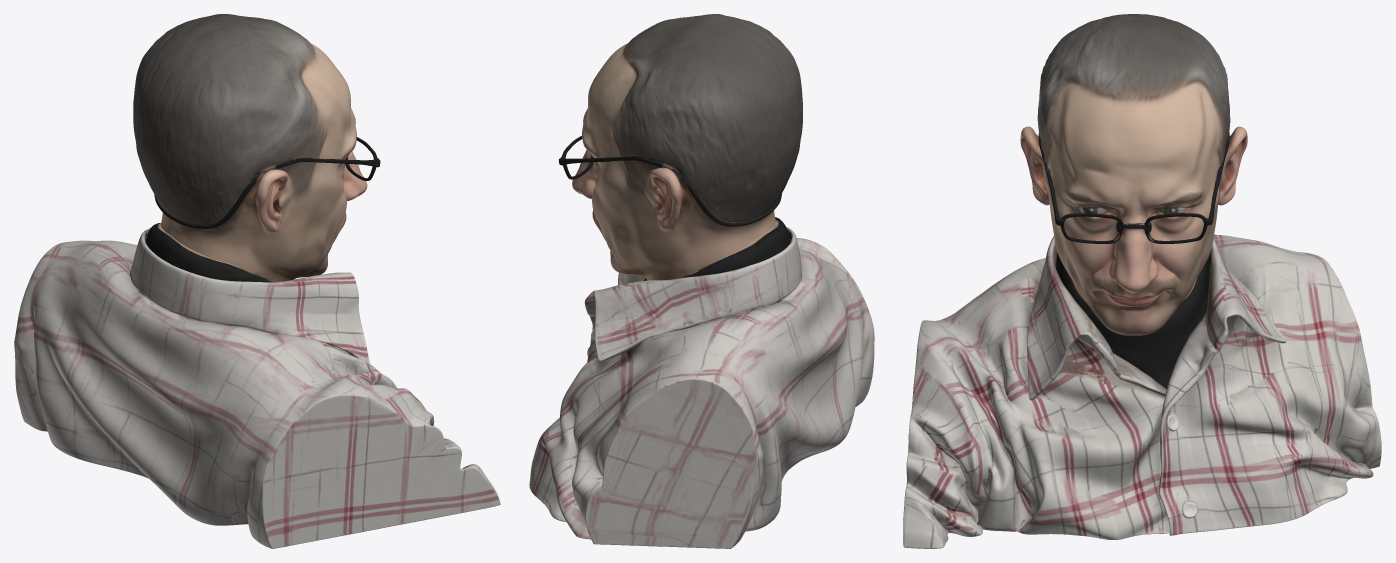
File: galactus.glb
3 renders of one model, left to right at view 1: azimuth 30°, elevation 25°; view 2: azimuth 150°, elevation 25°; view 3: azimuth 270°, elevation 25°, orthographic. The views are drawn at different scales.
Parts seen in each view (by area): view 1: tripo_node_b7fce031-46e1-4d02-84cd-ec94e2f1d194; view 2: tripo_node_b7fce031-46e1-4d02-84cd-ec94e2f1d194; view 3: tripo_node_b7fce031-46e1-4d02-84cd-ec94e2f1d194.
Boxes of the visible parts, x1,y1,x2,y2 form: tripo_node_b7fce031-46e1-4d02-84cd-ec94e2f1d194: [14, 14, 500, 548]; tripo_node_b7fce031-46e1-4d02-84cd-ec94e2f1d194: [529, 14, 874, 548]; tripo_node_b7fce031-46e1-4d02-84cd-ec94e2f1d194: [903, 14, 1381, 548].
Size of the model in its own units: 0.7031 by 1 by 0.9731.
Materials: 1 (1 with a texture image).
